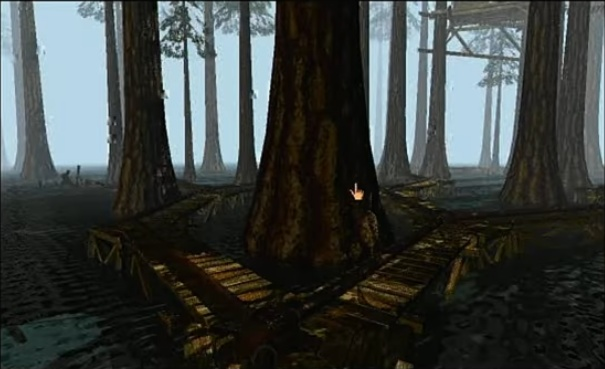Pointer: (346, 179, 368, 202)
